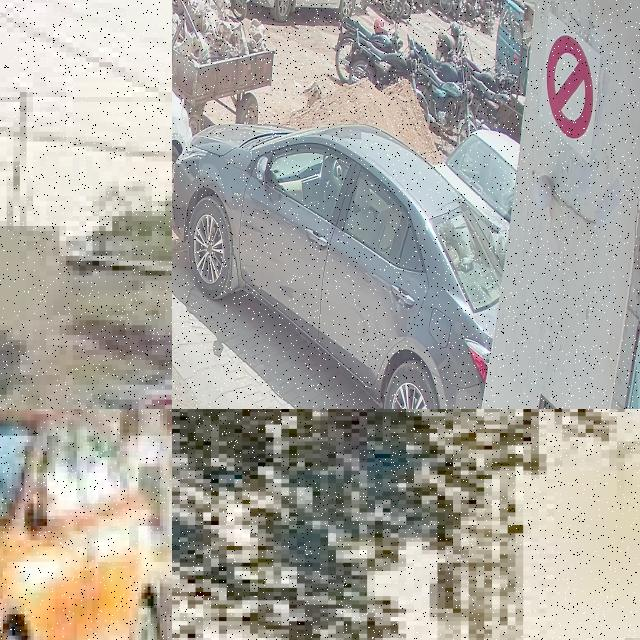bike: (344, 28, 418, 92), (333, 12, 399, 83), (417, 57, 474, 138), (412, 36, 467, 89), (471, 75, 514, 131), (463, 55, 502, 95), (436, 21, 466, 63), (364, 0, 401, 16), (432, 0, 454, 15)
car: (172, 123, 502, 409), (0, 409, 172, 640), (0, 260, 172, 409), (438, 130, 520, 247)
